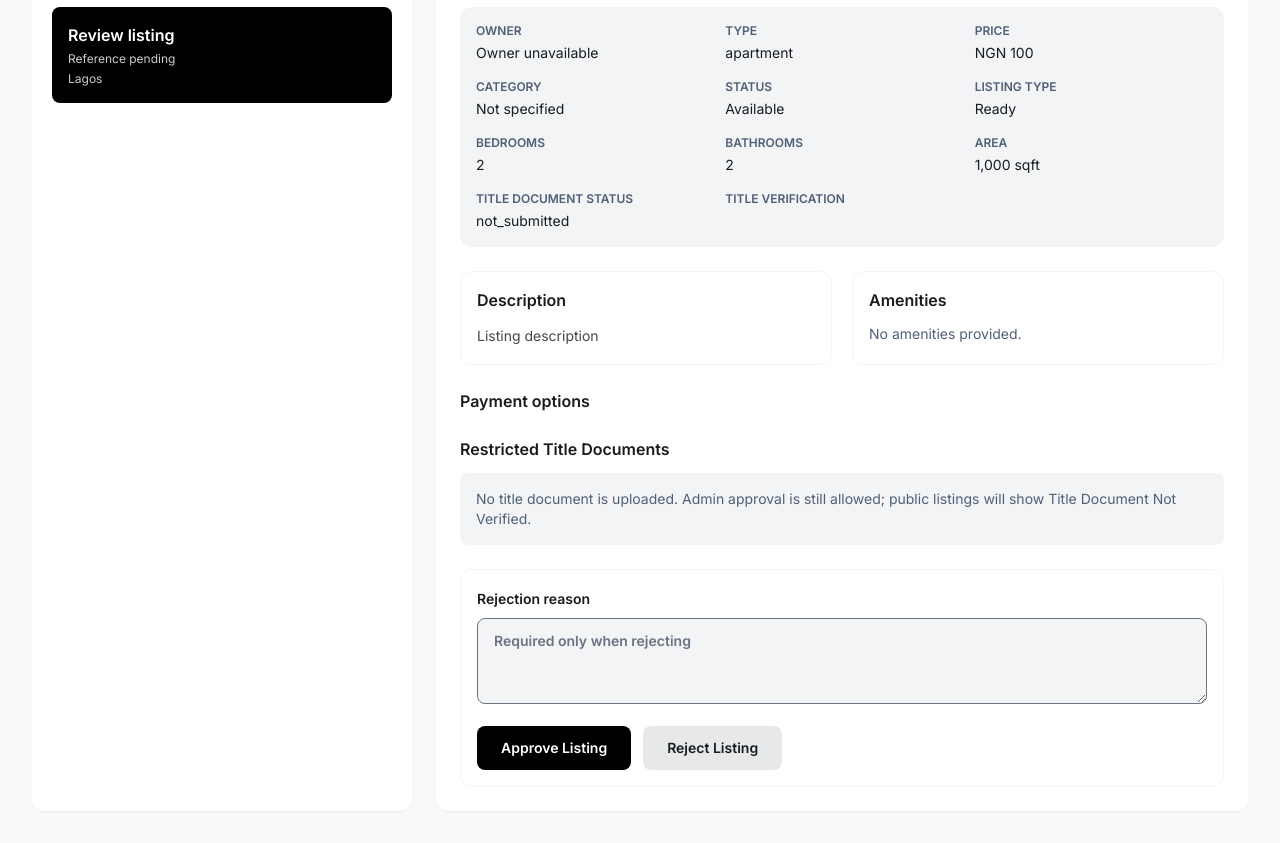
Test case: admin listing approval bound step-up › refreshes approval state after an ambiguous PATCH failure before allowing a fresh challenge
(page scrolled)
Click the button "Approve Listing" at (554, 748), box [477,726,631,770]
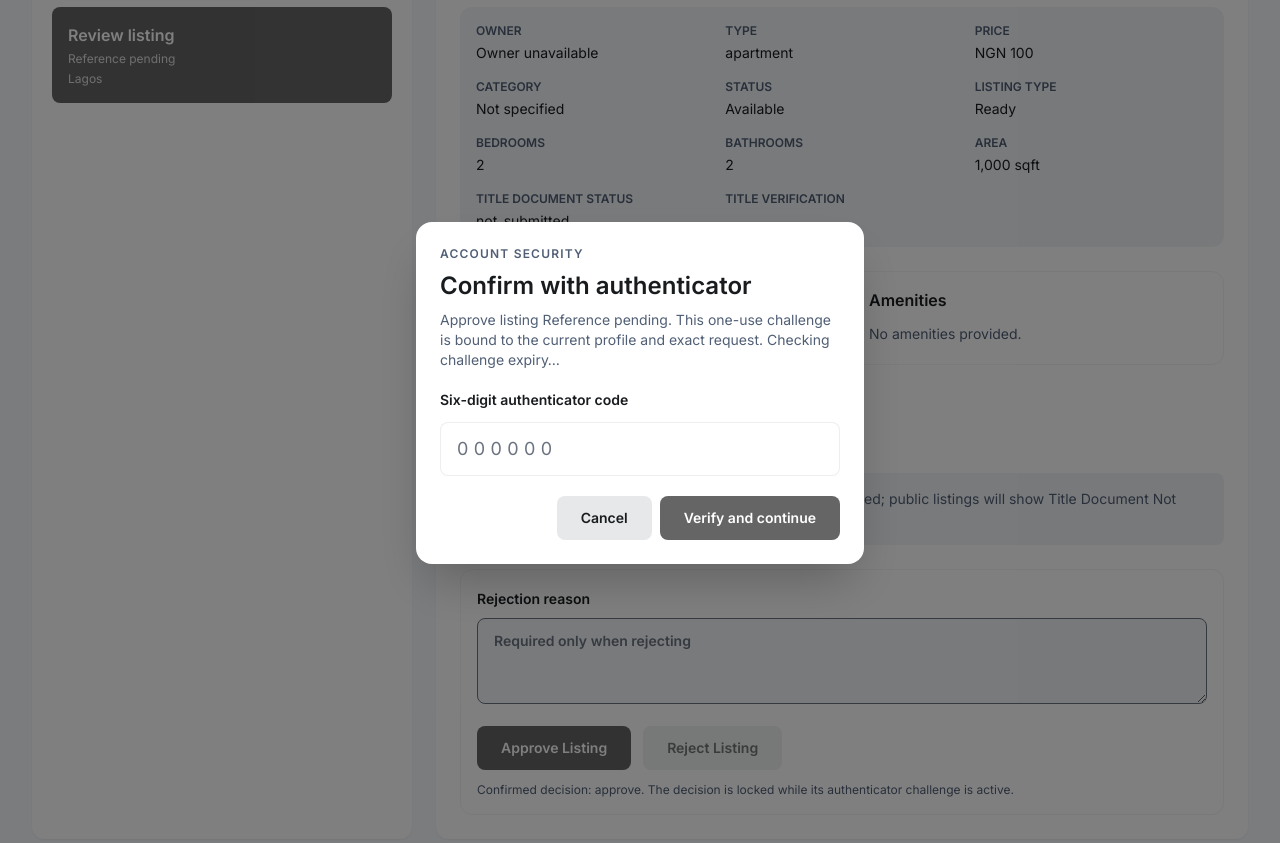
Type "123456" into the field labelled "Six-digit authenticator code" at (640, 449), box [440,422,840,476]
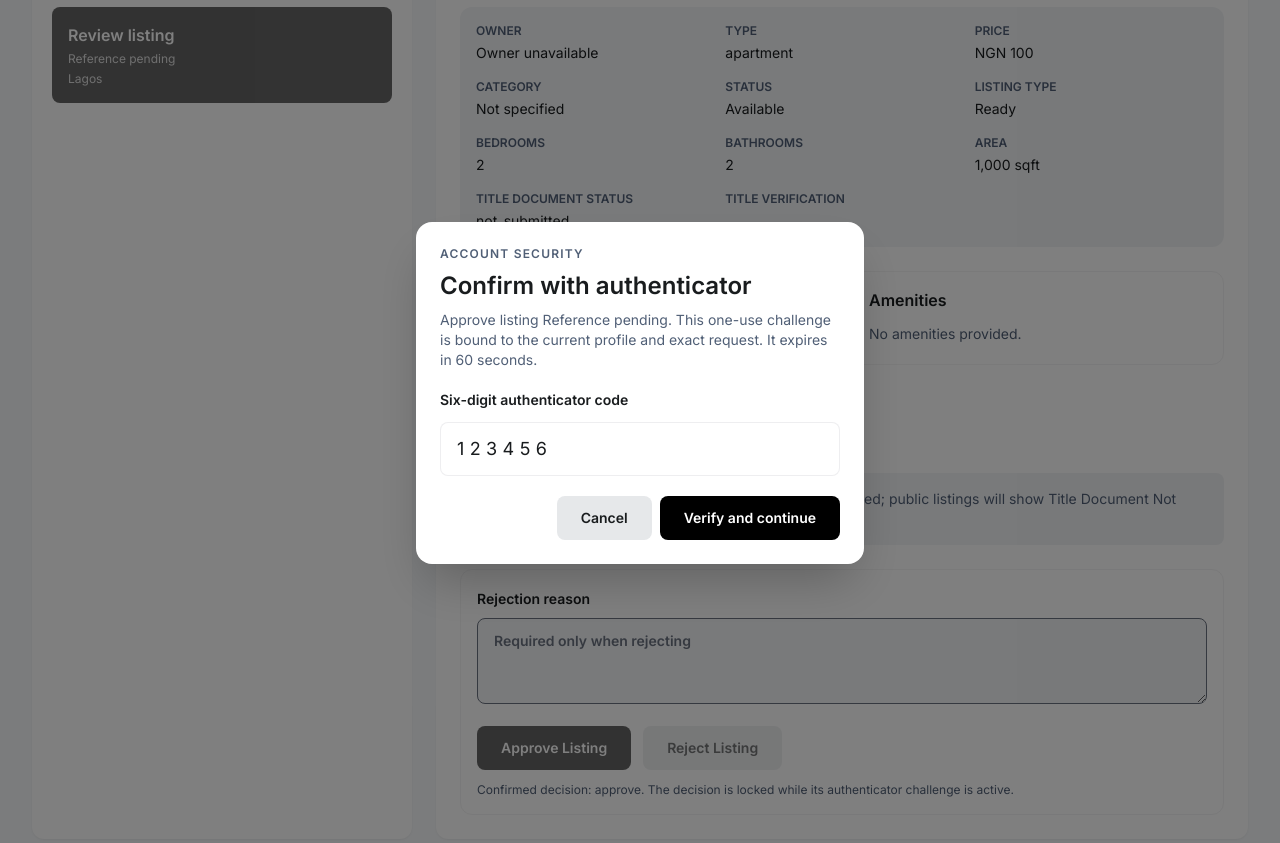
Now the button "Verify and continue" is enabled
Click the button "Verify and continue" at (750, 518), box [660,496,840,540]
(page scrolled)
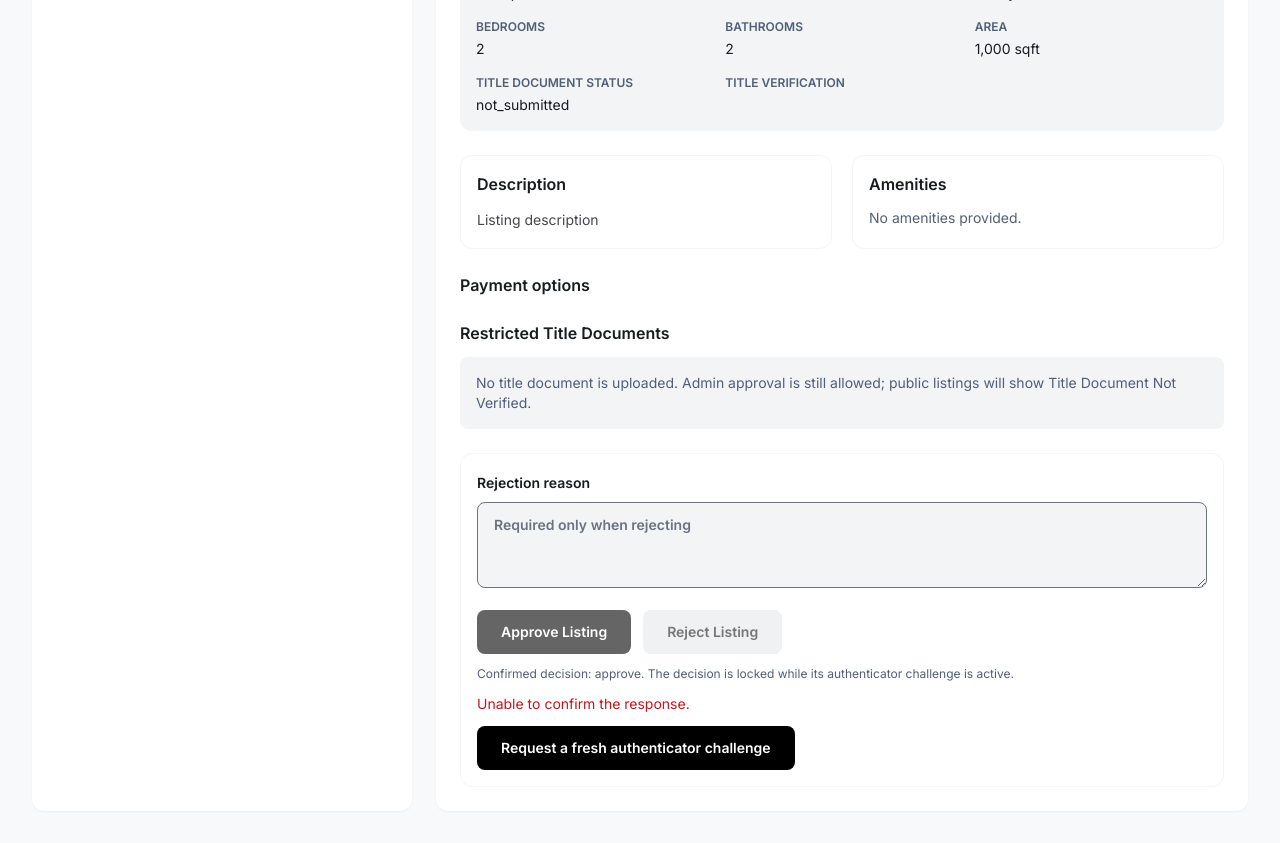
Now the button "Request a fresh authenticator challenge" is shown, box [477,726,795,770]
